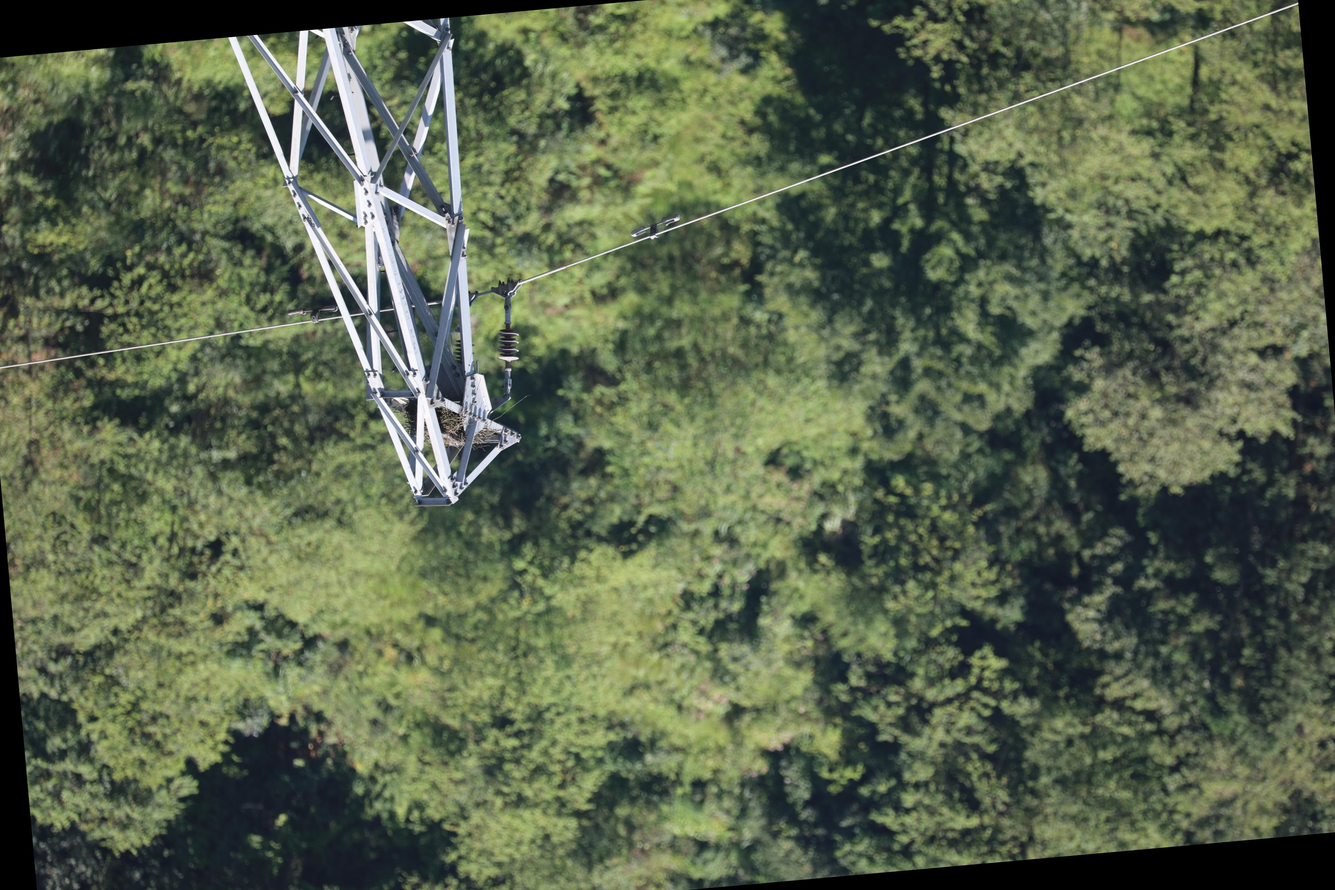damper: (627, 212, 684, 245), (284, 301, 341, 329)
